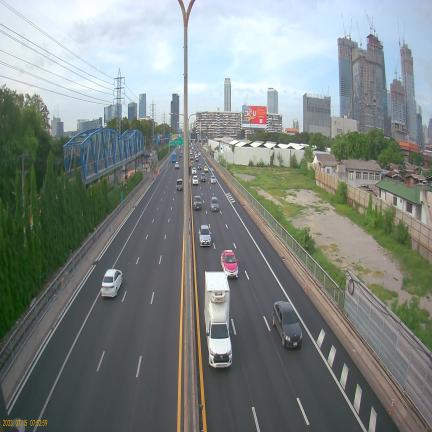car: (273, 301, 302, 347), (101, 269, 123, 297), (221, 250, 238, 277), (199, 225, 211, 246), (194, 195, 202, 210), (211, 196, 219, 211), (177, 179, 183, 190), (192, 175, 198, 185), (200, 173, 206, 182), (210, 175, 216, 184), (191, 167, 197, 175), (198, 163, 202, 170), (175, 162, 179, 169), (190, 160, 194, 167), (195, 156, 199, 162), (204, 166, 208, 172), (179, 153, 182, 158), (190, 155, 193, 160), (198, 152, 201, 156), (190, 150, 192, 155), (181, 150, 183, 154)
truck: (205, 271, 232, 368), (172, 152, 176, 162)
